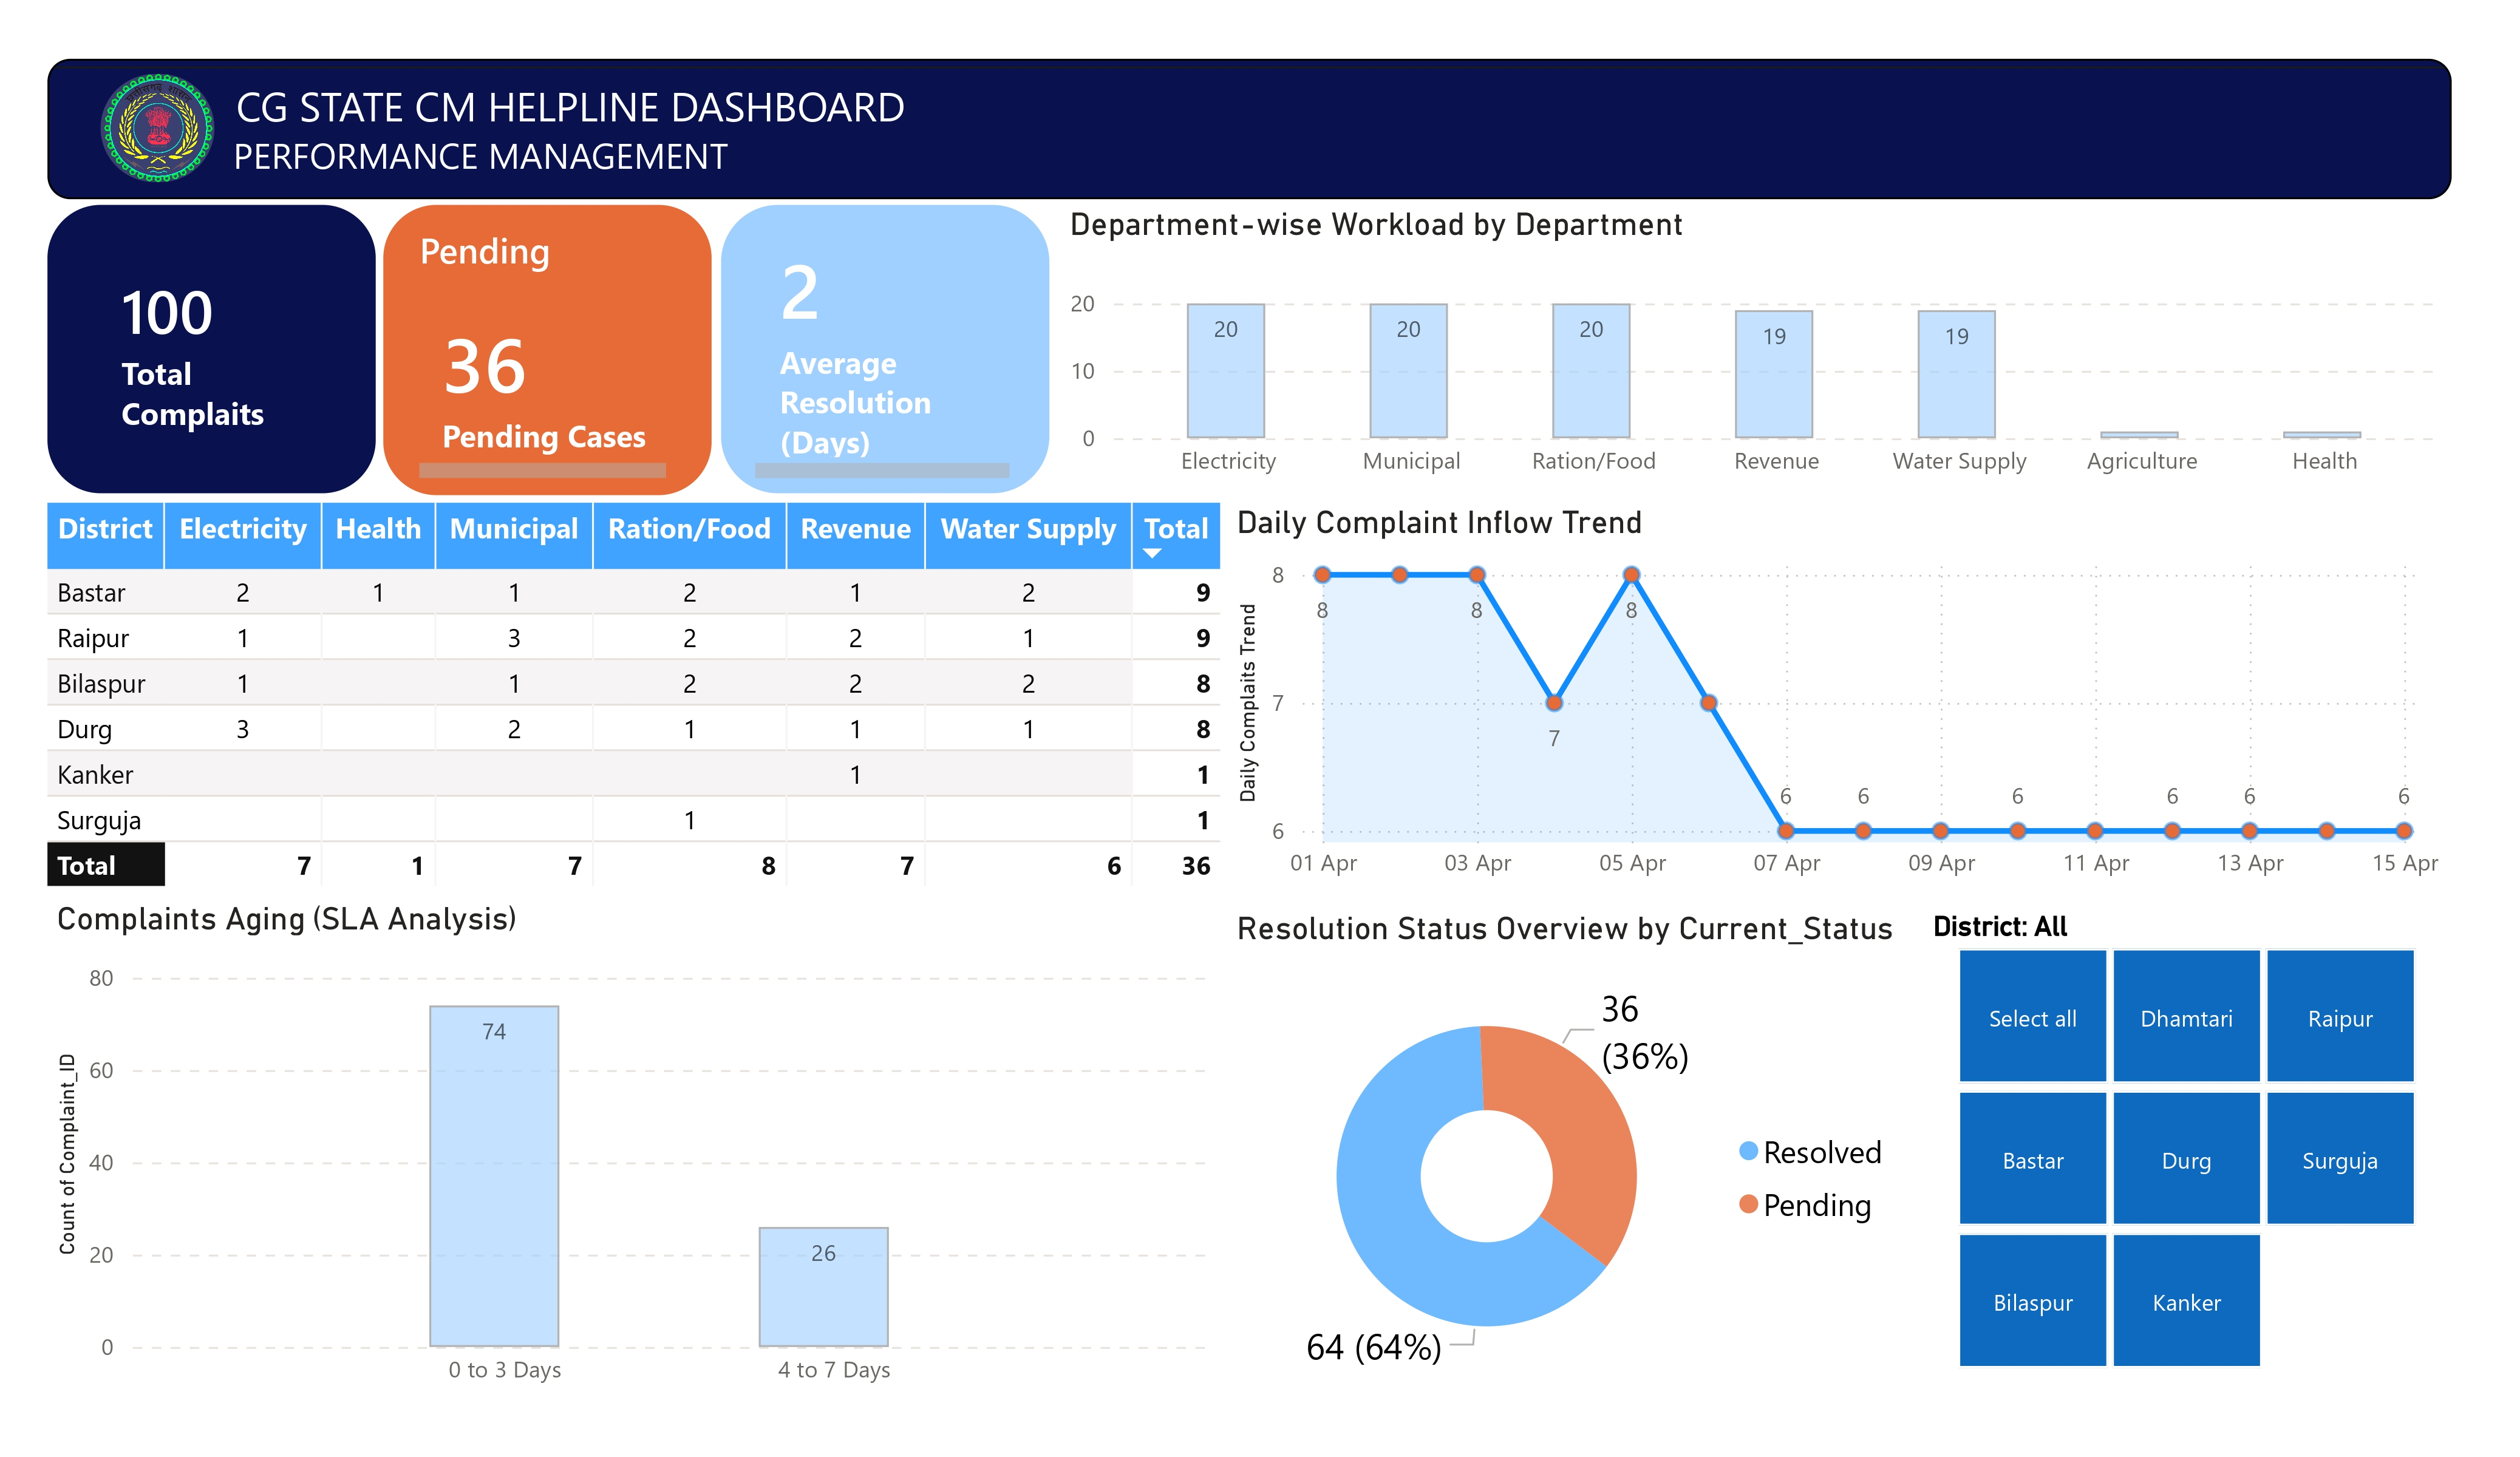

Layout of this report page (visuals, bound fields, positions):
{"tool":"powerbi","page":{"name":"Page 1","canvas":[1280,720],"ordinal":0},"visuals":[{"type":"clusteredColumnChart","fields":{"Category":["CM_Helpline_Clean_Data.Department"],"Y":["CountNonNull(CM_Helpline_Clean_Data.Complaint_ID)"]},"box":[534.9,83.8,731.8,152.8],"z":0},{"type":"slicer","fields":{"Values":["CM_Helpline_Clean_Data.District"]},"box":[986.7,450.7,281.3,266.7],"z":1000},{"type":"donutChart","fields":{"Category":["CM_Helpline_Clean_Data.Current_Status"],"Y":["CountNonNull(CM_Helpline_Clean_Data.Complaint_ID)"]},"box":[623,450,360,267.6],"z":2000},{"type":"cardVisual","fields":{"Rows":["CM_Helpline_Clean_Data.Current_Status"],"Data":["CountNonNull(CM_Helpline_Clean_Data.Current_Status)"]},"box":[178,84,173,153],"z":3000},{"type":"lineChart","title":"Daily Complaint Inflow Trend","fields":{"Category":["CM_Helpline_Clean_Data.Registered_Date.Variation.Date Hierarchy.Year","CM_Helpline_Clean_Data.Registered_Date.Variation.Date Hierarchy.Quarter","CM_Helpline_Clean_Data.Registered_Date.Variation.Date Hierarchy.Month","CM_Helpline_Clean_Data.Registered_Date.Variation.Date Hierarchy.Day"],"Y":["CountNonNull(CM_Helpline_Clean_Data.Complaint_ID)"]},"box":[623.4,240.6,643,203],"z":4000},{"type":"pivotTable","fields":{"Rows":["CM_Helpline_Clean_Data.District"],"Columns":["CM_Helpline_Clean_Data.Department"],"Values":["CountNonNull(CM_Helpline_Clean_Data.Complaint_ID)"]},"box":[1.4,240.5,620.3,205.4],"z":5000},{"type":"cardVisual","fields":{"Data":["Avg(CM_Helpline_Clean_Data.Resolution_Days)"]},"box":[356,84,173,152],"z":6000},{"type":"clusteredColumnChart","title":"Complaints Aging (SLA Analysis)","fields":{"Category":["CM_Helpline_Clean_Data.Custom"],"Y":["CountNonNull(CM_Helpline_Clean_Data.Complaint_ID)"]},"box":[1,450,616,266],"z":7000},{"type":"textbox","box":[1.5,7.3,1266.6,73.5],"z":8000},{"type":"cardVisual","fields":{"Data":["CountNonNull(CM_Helpline_Clean_Data.Complaint_ID)"]},"box":[1,84,173,152],"z":9000},{"type":"image","box":[29.2,14.6,59.8,57.2],"z":10000}]}

Visuals, with their boxes in screenshot pixels (x1, y1, x2, y2):
clusteredColumnChart - CM_Helpline_Clean_Data.Department x CountNonNull(CM_Helpline_Clean_Data.Complaint_ID): <box>1041,196,2411,483</box>
slicer - CM_Helpline_Clean_Data.District: <box>1887,883,2414,1382</box>
donutChart - CM_Helpline_Clean_Data.Current_Status x CountNonNull(CM_Helpline_Clean_Data.Complaint_ID): <box>1206,882,1880,1383</box>
cardVisual - CM_Helpline_Clean_Data.Current_Status x CountNonNull(CM_Helpline_Clean_Data.Current_Status): <box>373,197,696,483</box>
"Daily Complaint Inflow Trend" lineChart: <box>1207,490,2411,870</box>
pivotTable - CM_Helpline_Clean_Data.District x CM_Helpline_Clean_Data.Department: <box>42,490,1204,874</box>
cardVisual - Avg(CM_Helpline_Clean_Data.Resolution_Days): <box>706,197,1030,481</box>
"Complaints Aging (SLA Analysis)" clusteredColumnChart: <box>41,882,1195,1380</box>
textbox: <box>42,53,2414,191</box>
cardVisual - CountNonNull(CM_Helpline_Clean_Data.Complaint_ID): <box>41,197,365,481</box>
image: <box>94,67,206,174</box>
